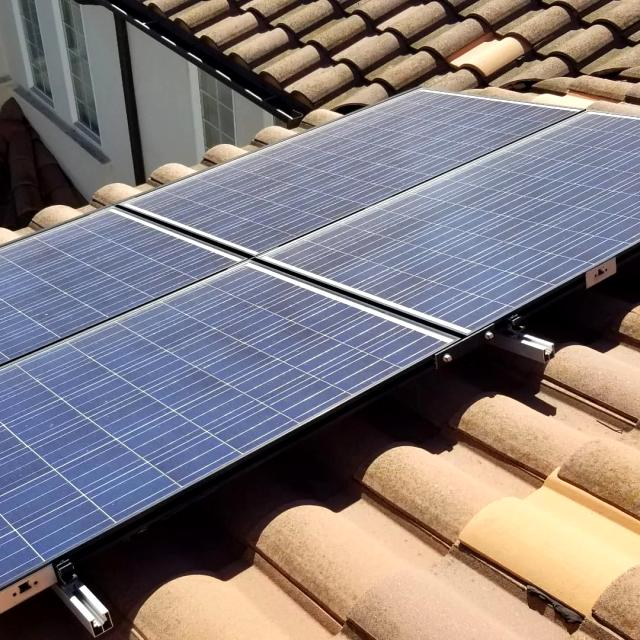dust: (271, 138, 535, 273), (121, 298, 308, 426), (9, 332, 136, 520), (41, 228, 168, 324), (503, 156, 596, 262)
